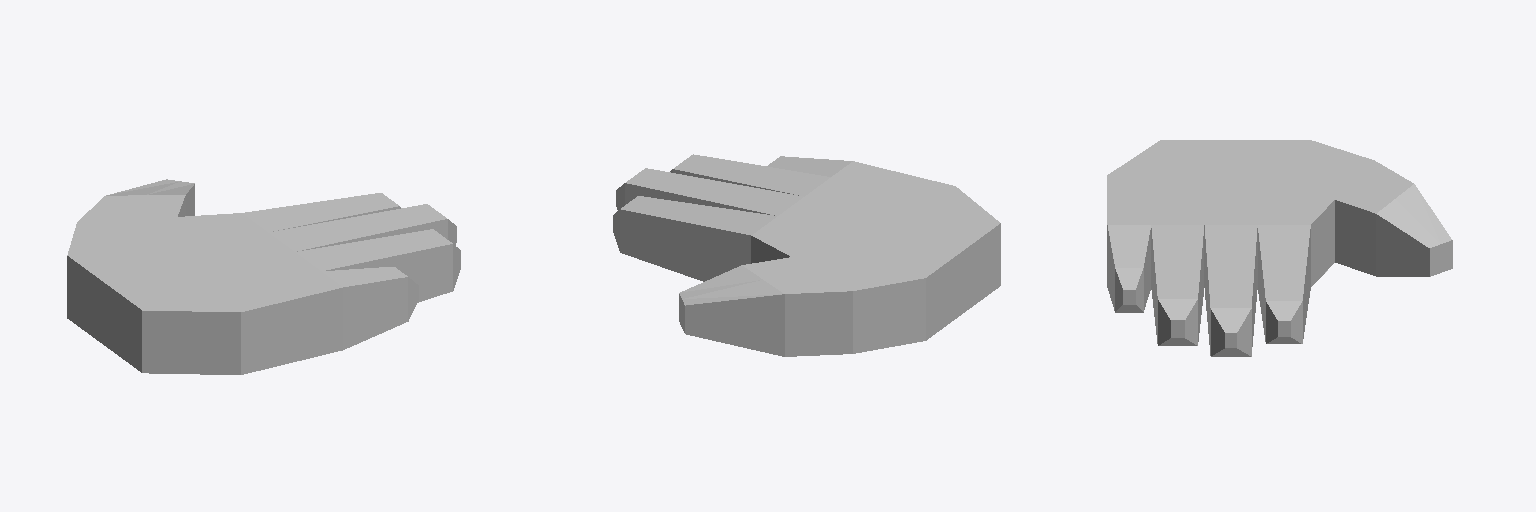
File: Hand.obj
3 views of the same model, side by side, from view 1: azimuth 30°, elevation 25°; view 2: azimuth 150°, elevation 25°; view 3: azimuth 270°, elevation 25° (orthographic).
Parts seen in each view (by area): view 1: Cube; view 2: Cube; view 3: Cube.
Boxes of the visible parts, x1=… form: Cube: x1=67, y1=179, x2=460, y2=374; Cube: x1=613, y1=154, x2=1000, y2=356; Cube: x1=1107, y1=140, x2=1452, y2=356.
Size of the model in its own units: 2.98 by 0.5161 by 2.57.